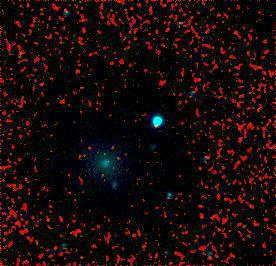star: (96, 153, 126, 183)
